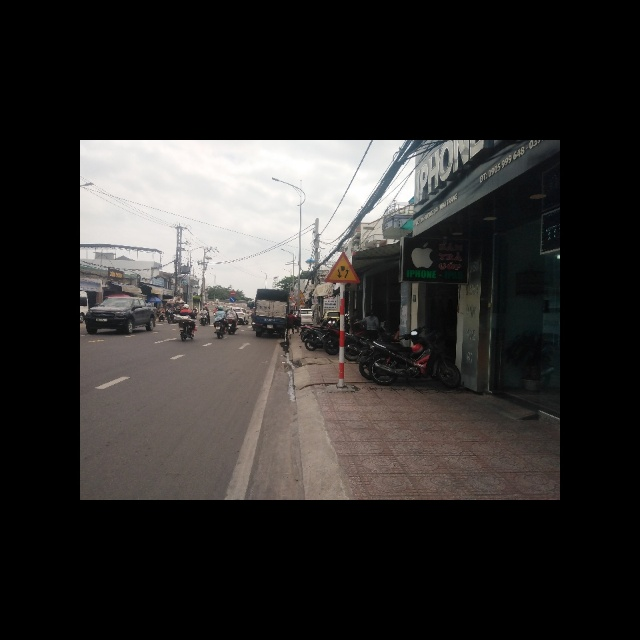Đường đôi: (324, 251, 361, 285)
